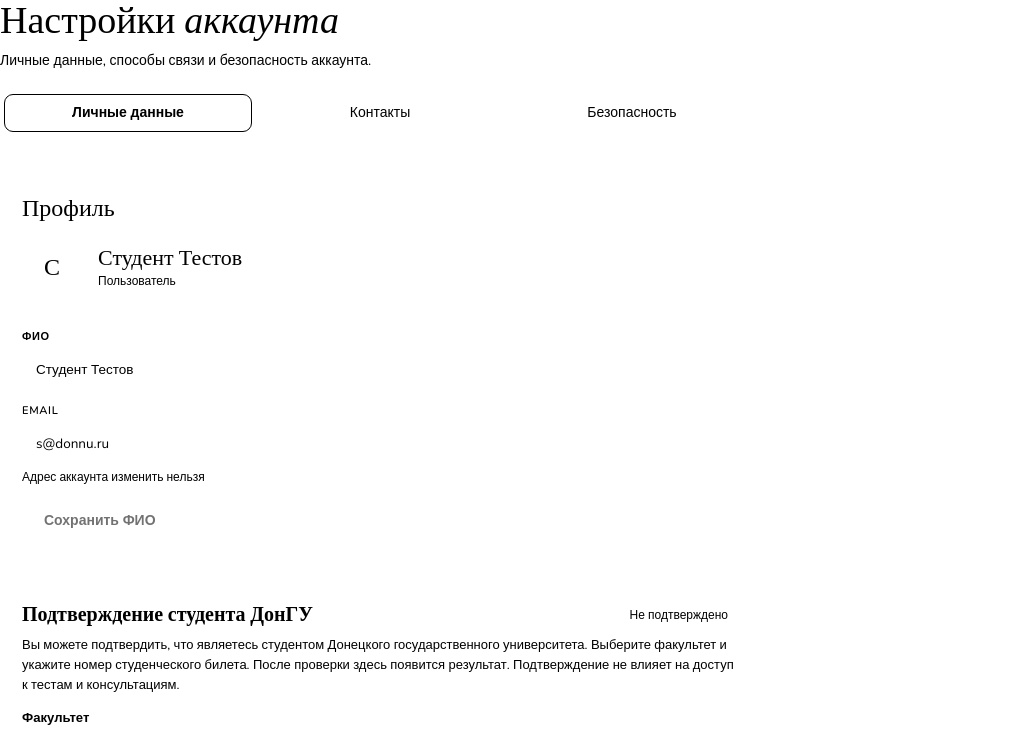
Scenario: server refusal keeps the session and shows the error
This screenshot has width=1024, height=734.
Expected: the heading "Профиль" is shown, [22,194,115,223]
Step 1. Click the tab "Безопасность" → (632, 113), box [508,94,756,132]
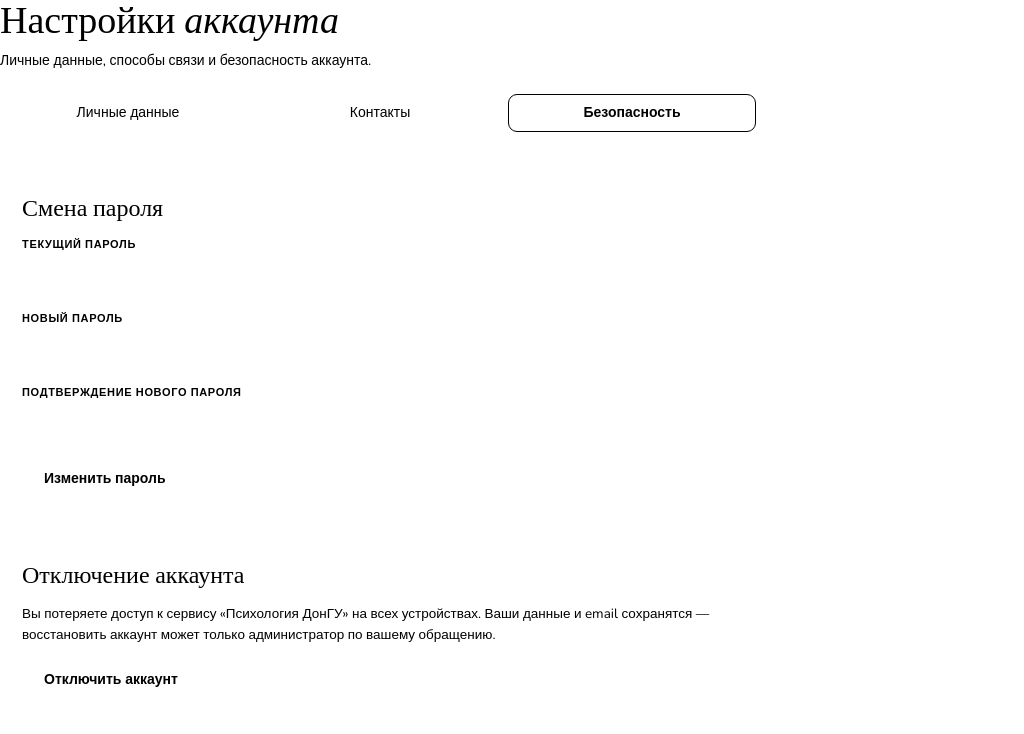
Step 2. Click the button "Отключить аккаунт" → (111, 680), box [22,660,200,700]
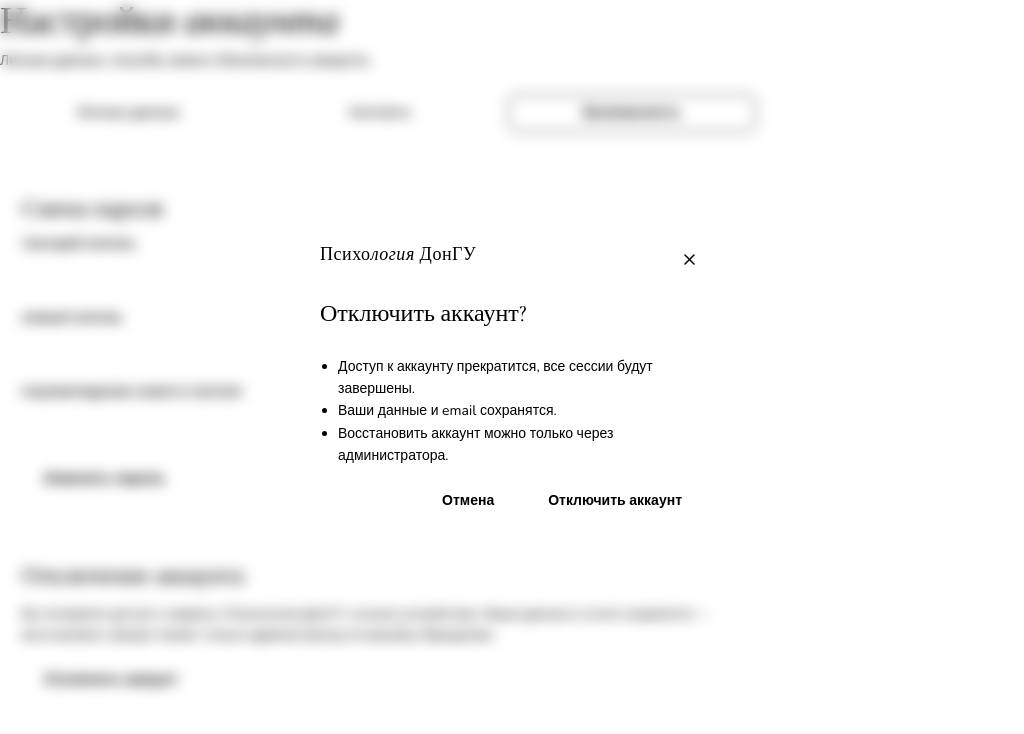
Step 3. Click the button "Отключить аккаунт" → (615, 502), box [526,482,704,522]
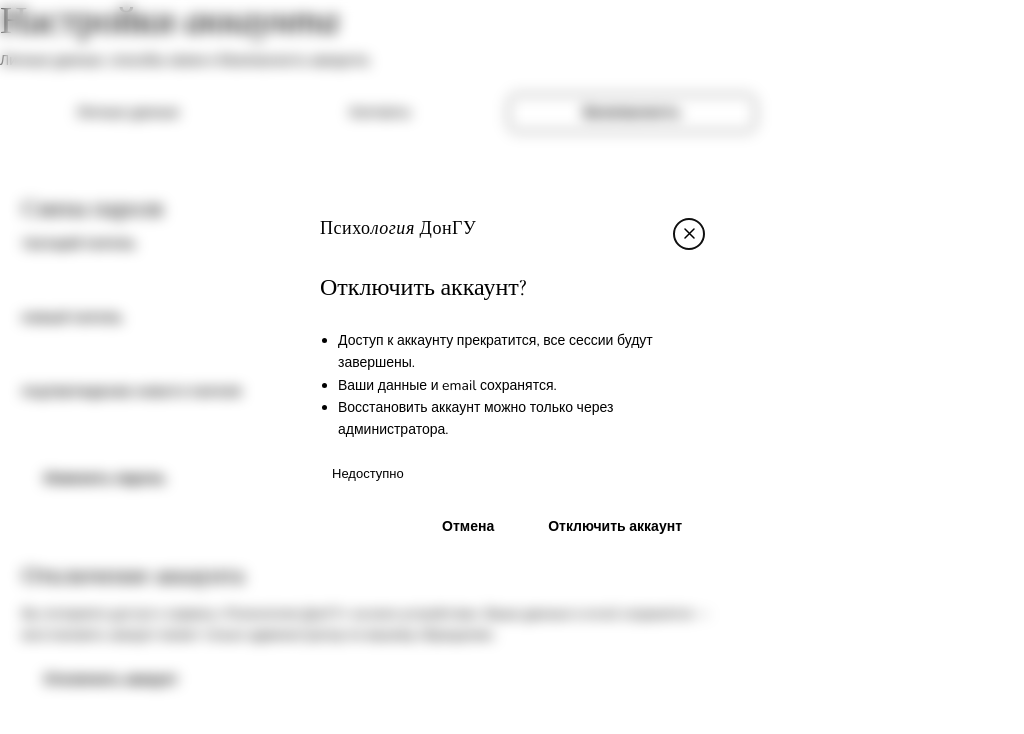
Now the text "Недоступно" is shown, box [332,465,404,483]
